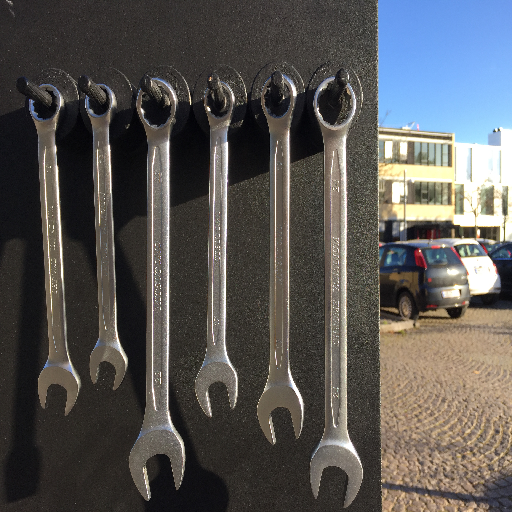bottom: (125, 421, 190, 500), (308, 435, 365, 509), (255, 379, 305, 446), (192, 356, 240, 417), (34, 358, 82, 418), (87, 342, 132, 391)
top: (312, 75, 358, 134), (134, 77, 180, 132), (259, 73, 299, 128), (26, 81, 65, 127), (202, 80, 238, 126), (81, 82, 120, 124)
